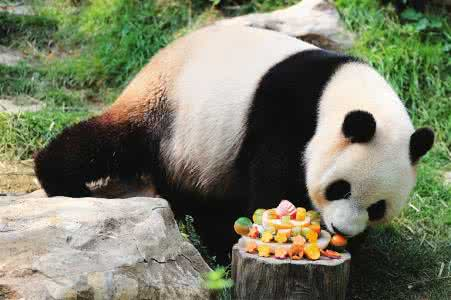panda: (31, 18, 432, 257)
